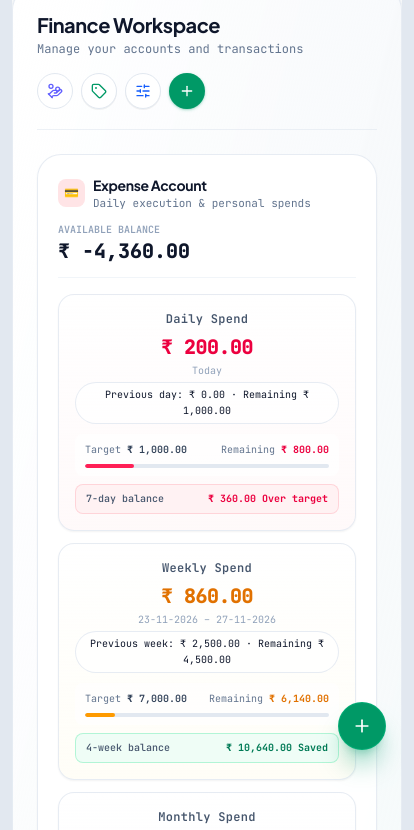
Test: Cumulative expense target balances › uses calendar week and month to date for expense account spending
The image size is (414, 830).
Expected: the text "Previous week: ₹ 2,500.00 · Remaining ₹ 4,500.00" is shown, [75,630,339,672]
Click the text "Weekly Spend" at (207,568), box [162,560,252,576]
Wait 50 ms
(page scrolled)
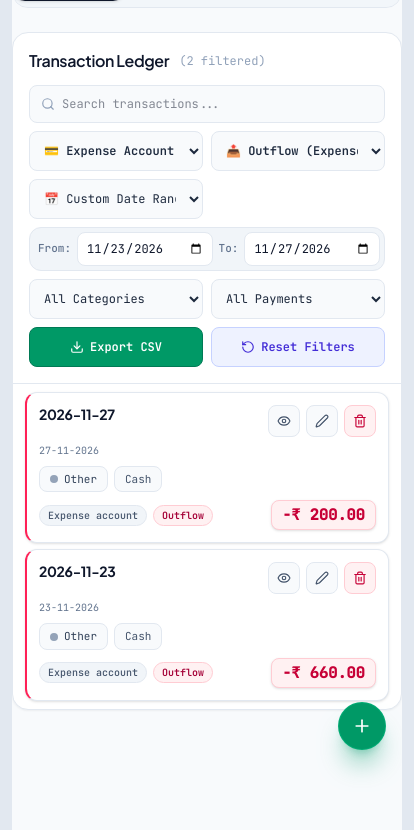
Expected: the heading "2026-11-23" is shown, [39,562,116,580]
